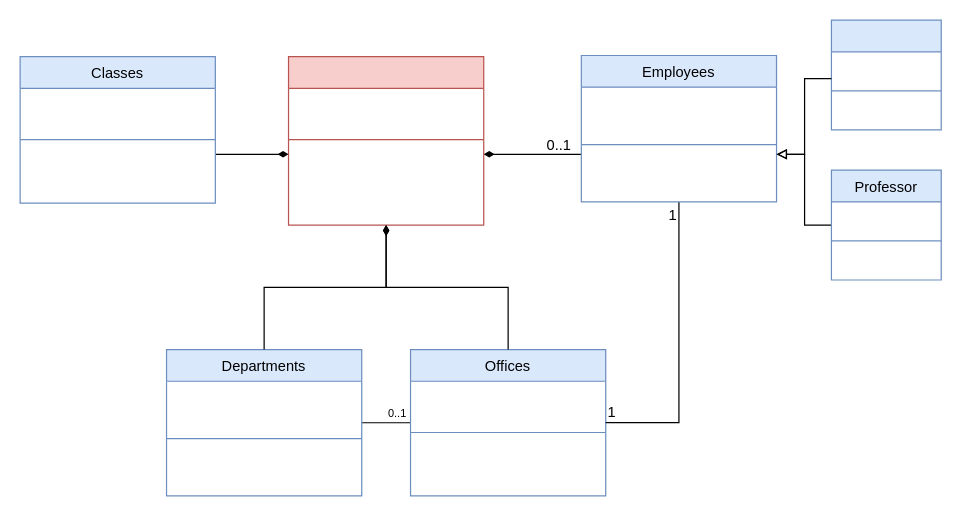
Image size: 961x516. Some labels were removed from this diagram. The shapes that lost their labels are listed below. From the top down, each one's centre as x and y in pixels, then its label:
point (885, 74): Officer
point (385, 140): University
